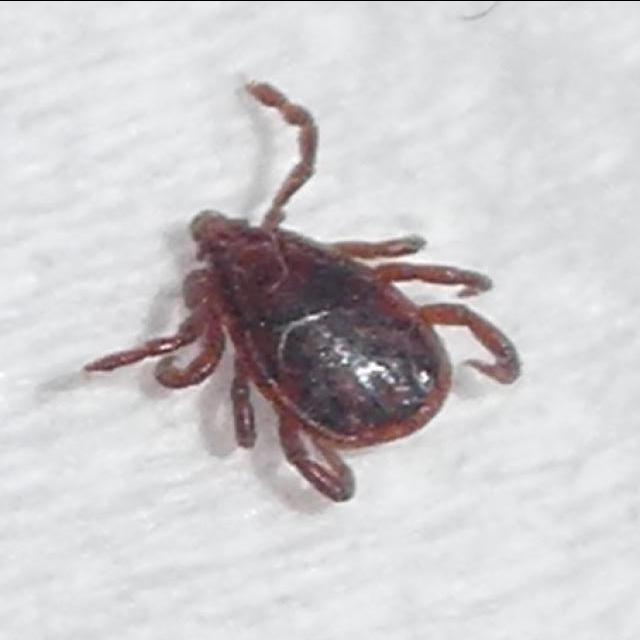Rhipicephalus Sanguineus-M: (86, 81, 523, 504)
